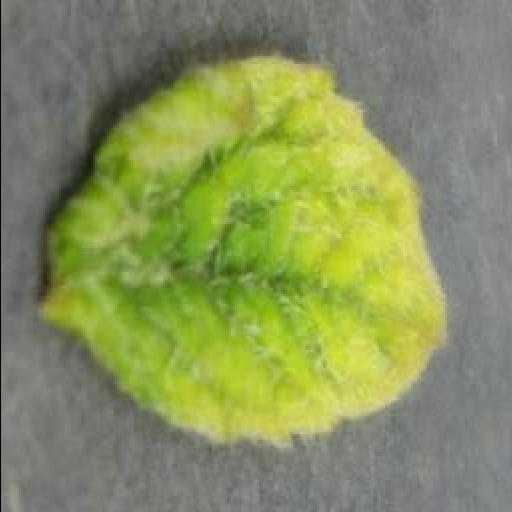disease_tomato: (44, 48, 446, 446)
